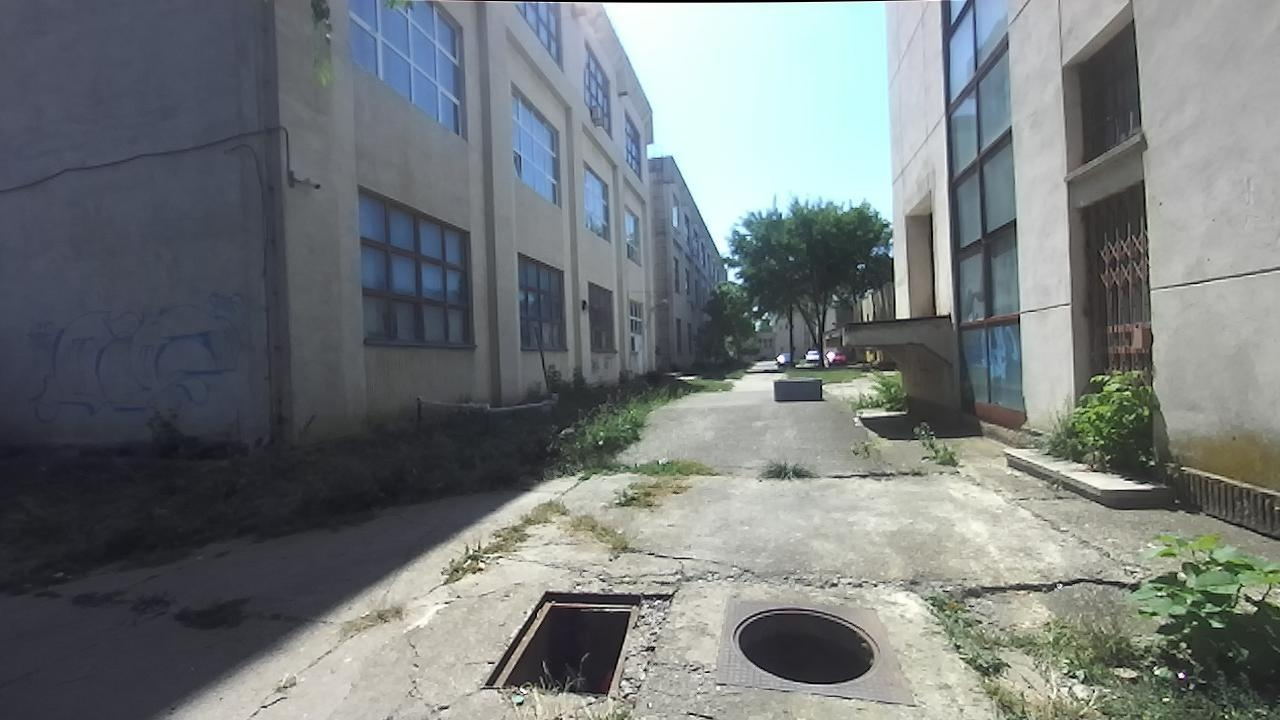drain: (473, 581, 645, 696), (727, 601, 887, 687)
